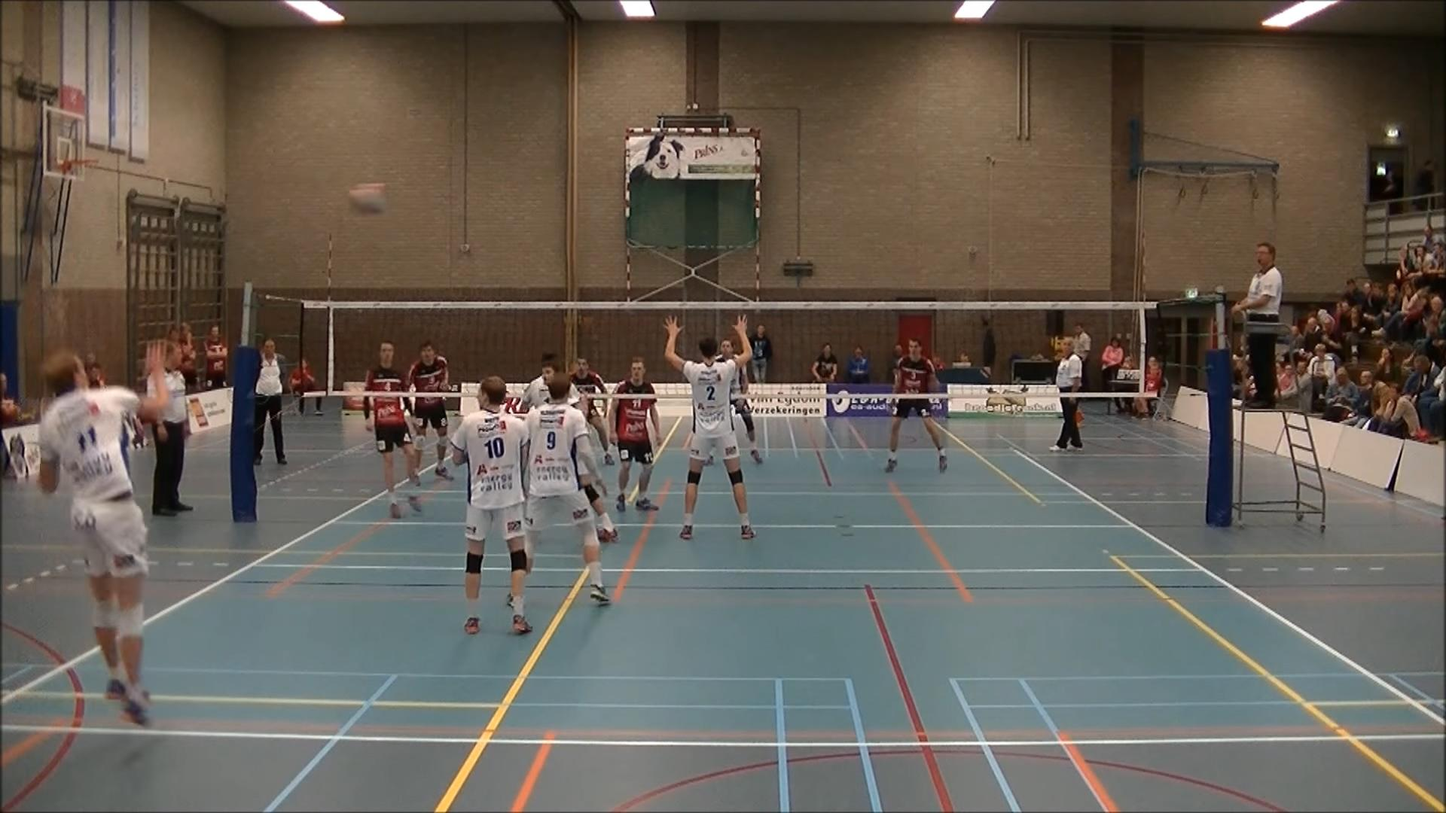battuta: (8, 343, 189, 722)
